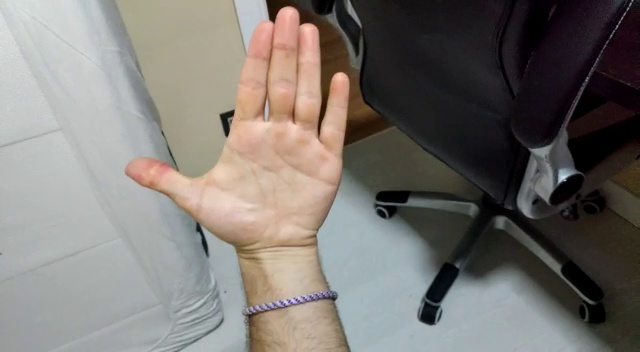Palm: (123, 5, 353, 272)
